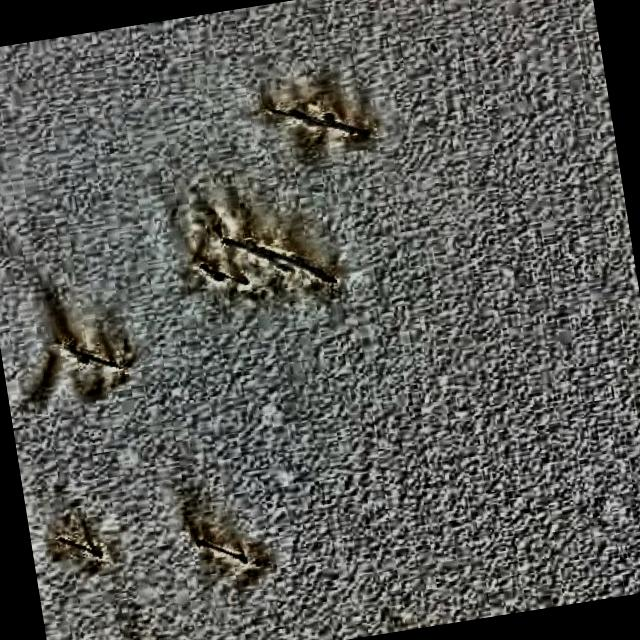crack: (226, 221, 336, 293), (264, 91, 367, 155), (53, 336, 122, 379), (197, 536, 247, 568), (199, 259, 242, 290), (57, 534, 94, 562)
